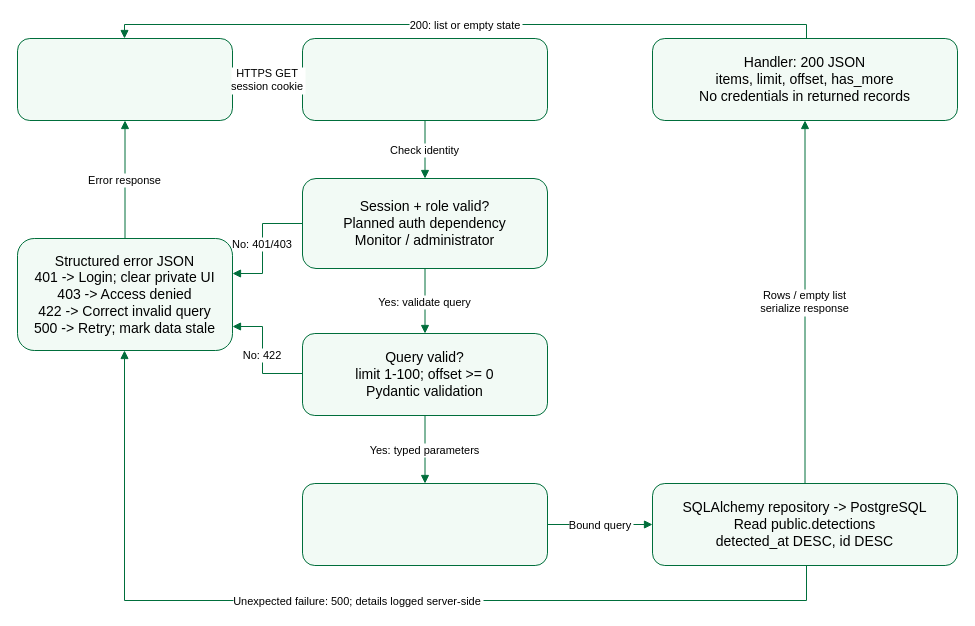
Image size: 975x626. Some labels were removed from this diagram. The shapes that lost their labels are listed below. From the top down, each one's centre as x and y in pixels, then its label:
At pixel 124 79: "Flutter Web: RW-03 Open Records / Refresh Show loading indicator".
At pixel 425 79: "FastAPI route + handler GET /detections Parse query; coordinate response".
At pixel 425 524: "DetectionService Pothole-only policy Delegate ordered read".
